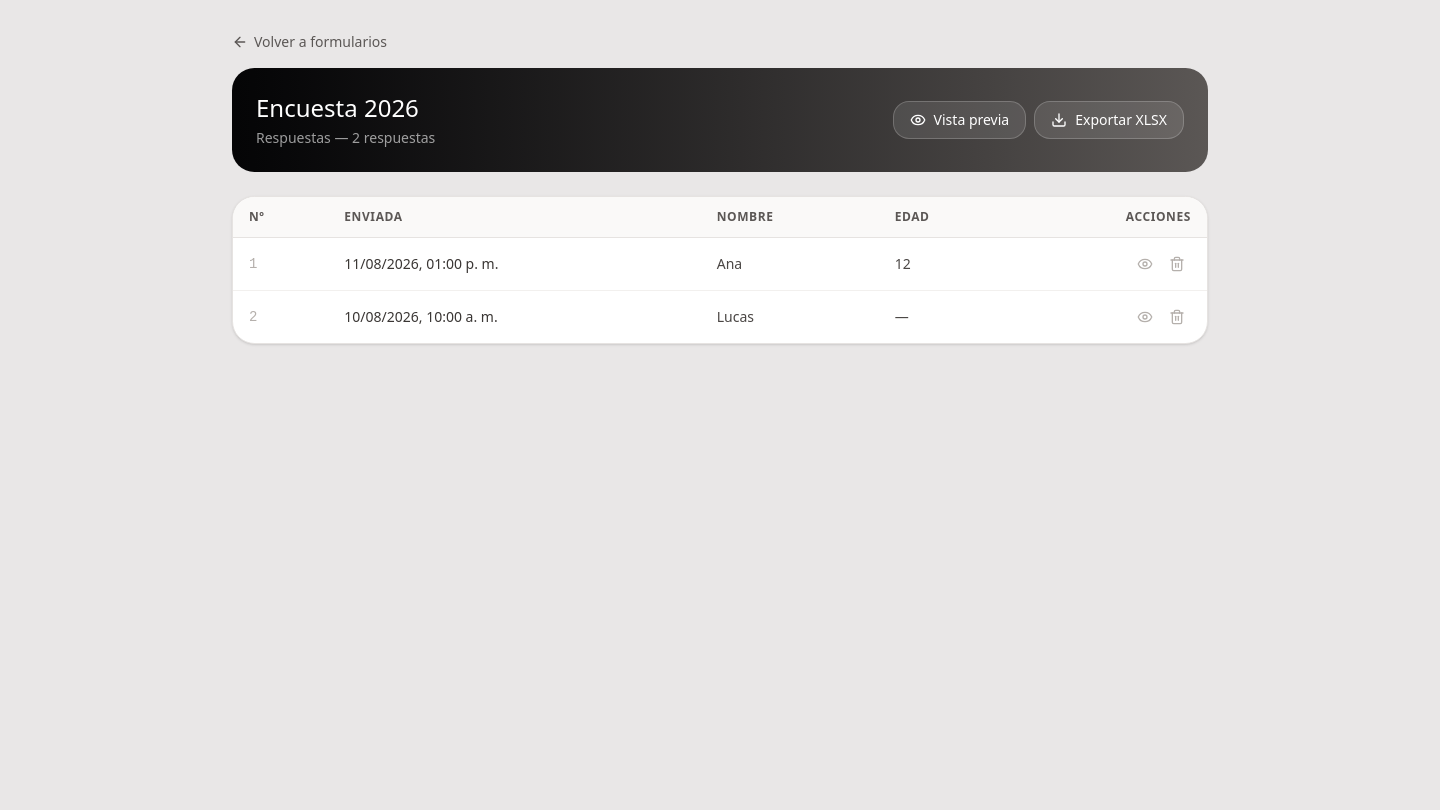
RespuestasClient › opens the preview dialog from the "Vista previa" button
Click the button "Vista previa" at (959, 120), box [893,101,1026,139]
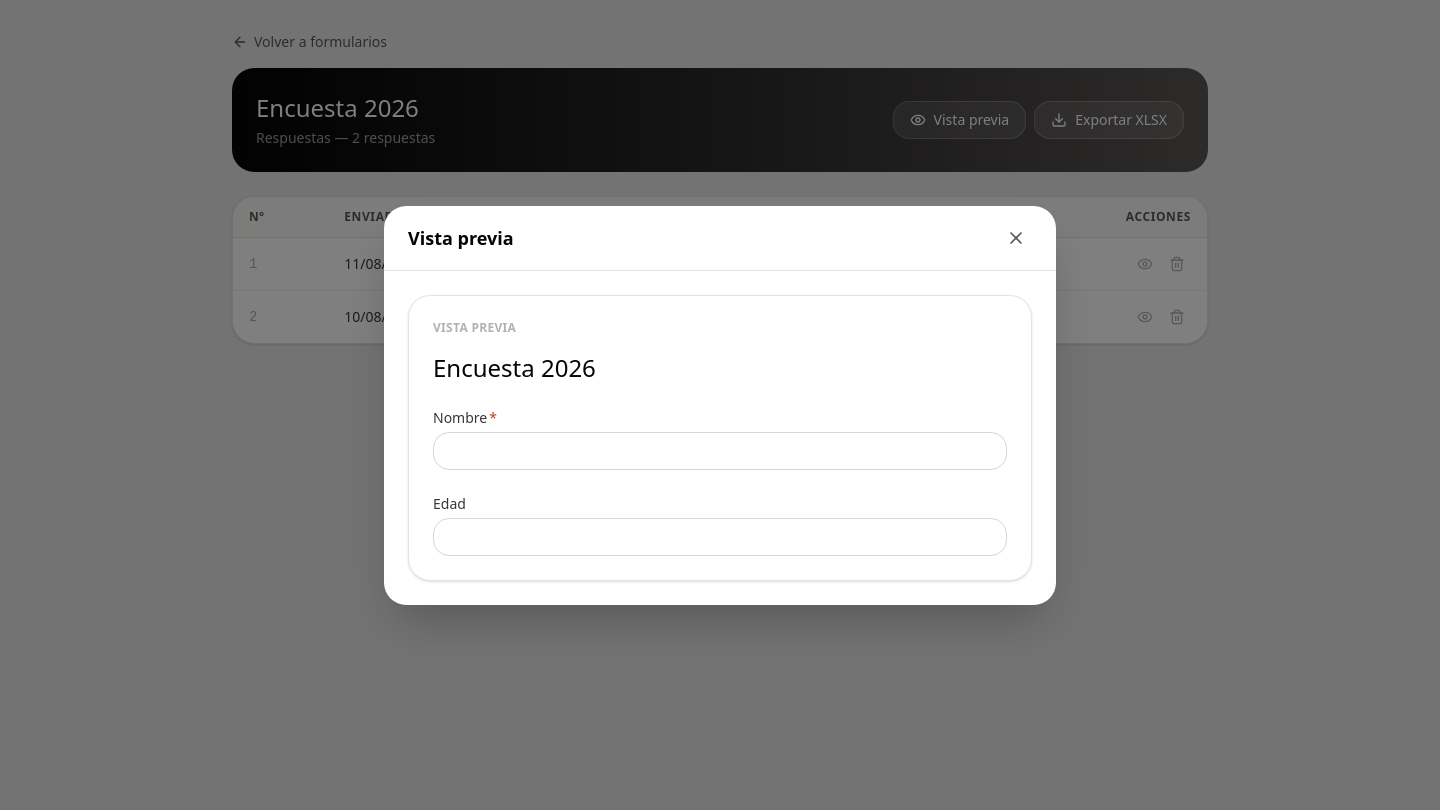
expect the dialog named "Vista previa del formulario" is shown: met, box [384,206,1056,604]
expect the heading "Encuesta 2026" is shown: met, box [433,350,596,384]
